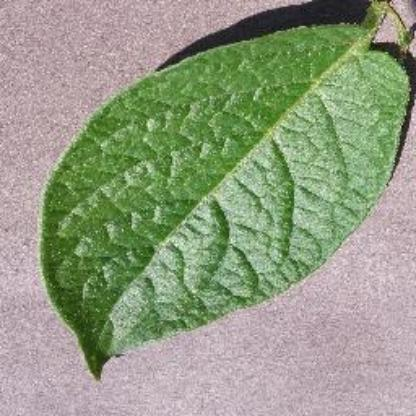Healthy-plant: (35, 6, 415, 374)
